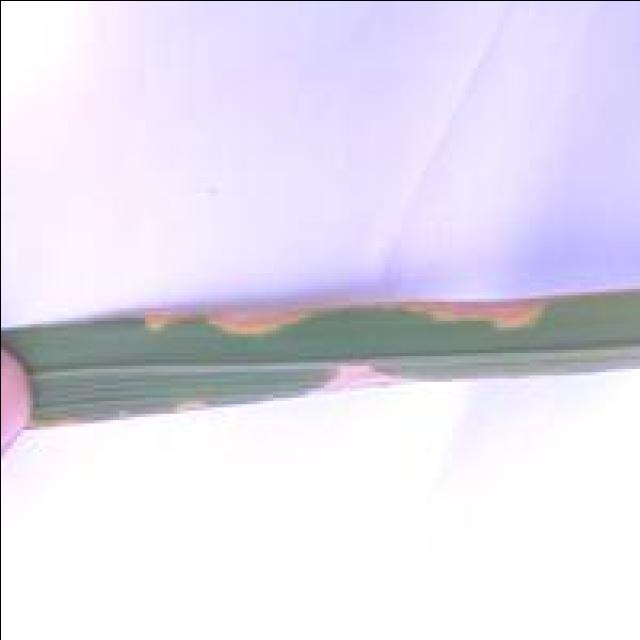Bacterial_Leaf_Blight: (90, 262, 596, 400)
